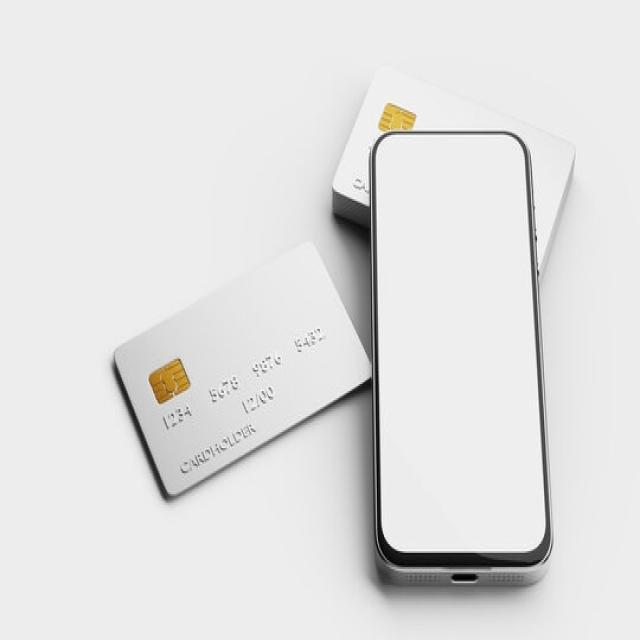payment_card: (111, 240, 372, 499)
